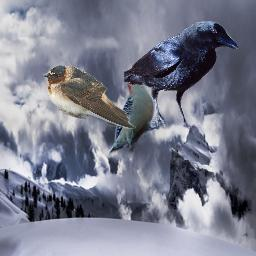Crow: (124, 21, 238, 131)
Swallow: (43, 65, 136, 129)
Woodpecker: (107, 67, 160, 156)
